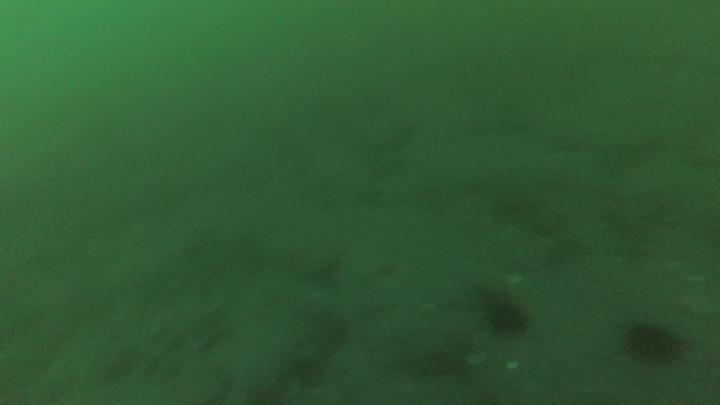echinus: (623, 317, 686, 367), (481, 291, 530, 341)
